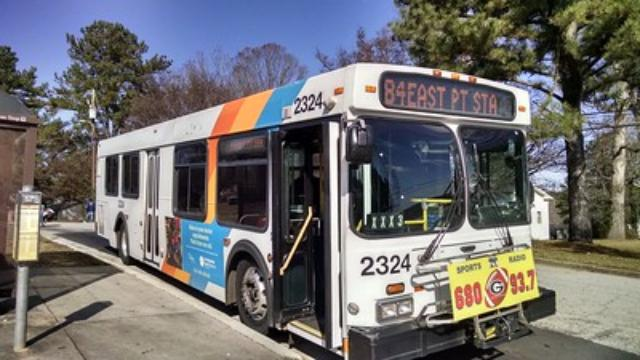bus: (93, 61, 557, 360)
